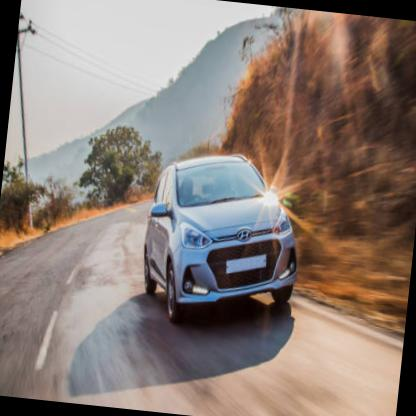car: (139, 147, 304, 332)
